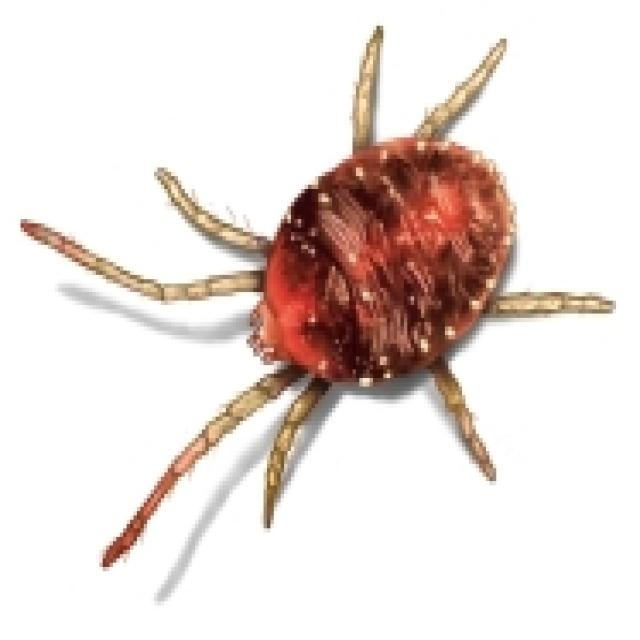Mites: (21, 17, 620, 577)
